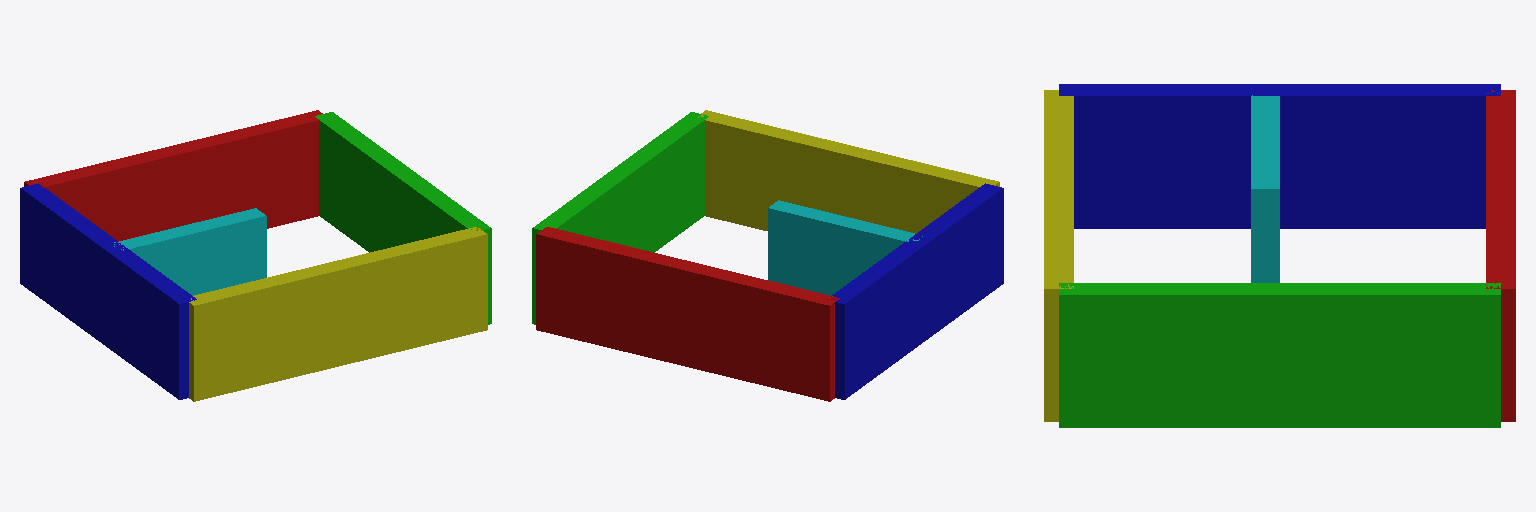
robot.urdf — wall.urdf:
<?xml version="0.0" ?>
<robot name="wall.urdf">
   <link name="green_underwall">
    <contact>
      <lateral_friction value="1.0"/>
      <spinning_friction value="1.0"/>
    </contact>
    <inertial>
      <origin rpy="0 0 0" xyz="0 0 0"/>
      <mass value="0.0"/>
      <inertia ixx="0" ixy="0" ixz="0" iyy="0" iyz="0" izz="0"/>
    </inertial>
    <visual>
      <origin rpy="0 0 0" xyz="2.5 1.0 0.5"/>
      <geometry>
        <box size="0.2 3 1"/>
      </geometry>
      <material name="blockmat1">
        <color rgba="0.1 0.7 0.1 1"/>
      </material>
    </visual>
    <collision>
      <origin rpy="0 0 0" xyz="2.5 1.0 0.5"/>
      <geometry>
        <box size="0.2 3 1"/>
      </geometry>
    </collision>
  </link>

  <joint name="right_under_joint" type="fixed">
    <parent link="green_underwall"/>
    <child link="red_rightwall"/>
  </joint>

  <link name="red_rightwall">
    <contact>
      <lateral_friction value="1.0"/>
      <spinning_friction value="1.0"/>
    </contact>
    <inertial>
      <origin rpy="0 0 0" xyz="0 0 0"/>
      <mass value="0.0"/>
      <inertia ixx="0" ixy="0" ixz="0" iyy="0" iyz="0" izz="0"/>
    </inertial>
    <visual>
      <origin rpy="0 0 0" xyz="0.9 2.5 0.5"/>
      <geometry>
        <box size="3.2 0.2 1"/>
      </geometry>
      <material name="blockmat2">
        <color rgba="0.7 0.1 0.1 1"/>
      </material>
    </visual>
    <collision>
      <origin rpy="0 0 0" xyz="0.9 2.5 0.5"/>
      <geometry>
        <box size="3.2 0.2 1"/>
      </geometry>
    </collision>
  </link>

  <joint name="top_right_joint" type="fixed">
    <parent link="red_rightwall"/>
    <child link="blue_topwall"/>
  </joint>

  <link name="blue_topwall">
    <contact>
      <lateral_friction value="1.0"/>
      <spinning_friction value="1.0"/>
    </contact>
    <inertial>
      <origin rpy="0 0 0" xyz="0 0 0"/>
      <mass value="0.0"/>
      <inertia ixx="0" ixy="0" ixz="0" iyy="0" iyz="0" izz="0"/>
    </inertial>
    <visual>
      <origin rpy="0 0 0" xyz="-0.7 1.0 0.5"/>
      <geometry>
        <box size="0.2 3 1"/>
      </geometry>
      <material name="blockmat3">
        <color rgba="0.1 0.1 0.7 1"/>
      </material>
    </visual>
    <collision>
      <origin rpy="0 0 0" xyz="-0.7 1.0 0.5"/>
      <geometry>
        <box size="0.2 3 1"/>
      </geometry>
    </collision>
  </link>

  <joint name="top_left_joint" type="fixed">
    <parent link="blue_topwall"/>
    <child link="yellow_leftwall"/>
  </joint>

  <link name="yellow_leftwall">
    <contact>
      <lateral_friction value="1.0"/>
      <spinning_friction value="1.0"/>
    </contact>
    <inertial>
      <origin rpy="0 0 0" xyz="0 0 0"/>
      <mass value="0.0"/>
      <inertia ixx="0" ixy="0" ixz="0" iyy="0" iyz="0" izz="0"/>
    </inertial>
    <visual>
      <origin rpy="0 0 0" xyz="0.9 -0.5 0.5"/>
      <geometry>
        <box size="3.2 0.2 1"/>
      </geometry>
      <material name="blockmat4">
        <color rgba="0.7 0.7 0.1 1"/>
      </material>
    </visual>
    <collision>
      <origin rpy="0 0 0" xyz="0.9 -0.5 0.5"/>
      <geometry>
        <box size="3.2 0.2 1"/>
      </geometry>
    </collision>
  </link>

  <joint name="top_block_joint" type="fixed">
    <parent link="blue_topwall"/>
    <child link="block"/>
  </joint>

  <link name="block">
    <contact>
      <lateral_friction value="1.0"/>
      <spinning_friction value="1.0"/>
    </contact>
    <inertial>
      <origin rpy="0 0 0" xyz="0 0 0"/>
      <mass value="0.0"/>
      <inertia ixx="0" ixy="0" ixz="0" iyy="0" iyz="0" izz="0"/>
    </inertial>
    <visual>
      <origin rpy="0 0 0" xyz="0.1 0.9 0.5"/>
      <geometry>
        <box size="1.6 0.2 1"/>
      </geometry>
      <material name="blockmat5">
        <color rgba="0.1 0.7 0.7 1"/>
      </material>
    </visual>
    <collision>
      <origin rpy="0 0 0" xyz="0.1 0.9 0.5"/>
      <geometry>
        <box size="1.6 0.2 1"/>
      </geometry>
    </collision>
  </link>


</robot>

--- Render facts (derived) ---
Views: 3 orthographic renders of the robot side by side, from view 1: azimuth 30°, elevation 25°; view 2: azimuth 150°, elevation 25°; view 3: azimuth 270°, elevation 25°.
Robot: wall.urdf — 5 links, 4 joints (4 fixed); root link green_underwall; default pose: all joints at 0.
Links seen in each view (by area): view 1: yellow_leftwall, red_rightwall, blue_topwall, green_underwall, block; view 2: red_rightwall, yellow_leftwall, blue_topwall, green_underwall, block; view 3: green_underwall, blue_topwall, red_rightwall, yellow_leftwall, block.
Link boxes in pixels (x1=…): yellow_leftwall: x1=189, y1=227, x2=487, y2=401; red_rightwall: x1=24, y1=110, x2=322, y2=241; blue_topwall: x1=20, y1=183, x2=196, y2=399; green_underwall: x1=315, y1=112, x2=491, y2=324; block: x1=114, y1=208, x2=266, y2=295; red_rightwall: x1=536, y1=227, x2=839, y2=401; yellow_leftwall: x1=698, y1=110, x2=999, y2=233; blue_topwall: x1=827, y1=183, x2=1003, y2=399; green_underwall: x1=532, y1=112, x2=708, y2=324; block: x1=768, y1=200, x2=922, y2=295; green_underwall: x1=1059, y1=283, x2=1500, y2=427; blue_topwall: x1=1059, y1=84, x2=1500, y2=228; red_rightwall: x1=1486, y1=90, x2=1515, y2=421; yellow_leftwall: x1=1044, y1=90, x2=1073, y2=421; block: x1=1251, y1=95, x2=1279, y2=282.
Size in the robot's own frame: 3.4 by 3.2 by 1 metres.
Geometry: primitives only (box / cylinder / sphere), no mesh files.